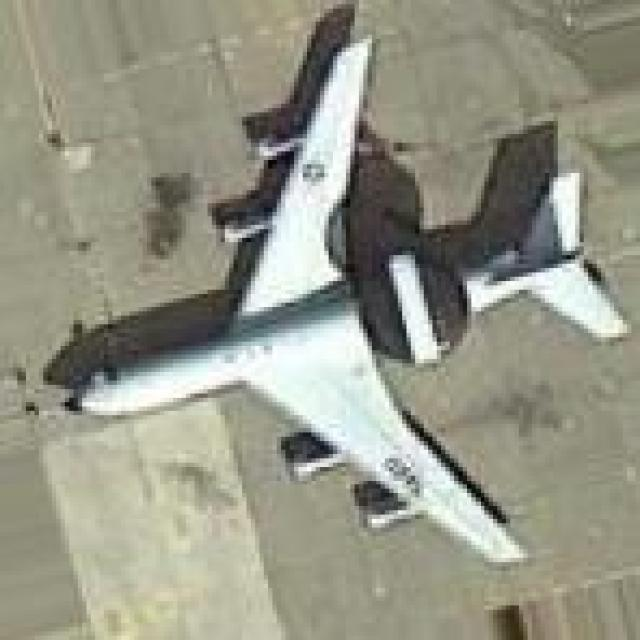E-3_TopDown: (34, 0, 627, 566)
